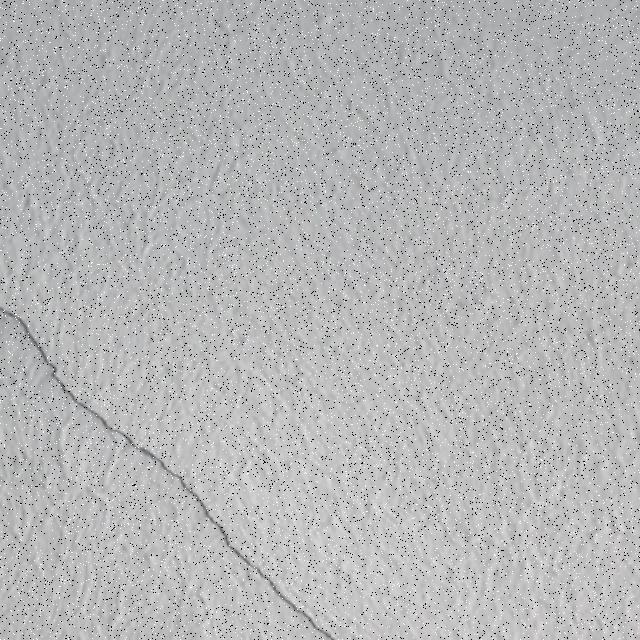severe crack: (6, 296, 367, 637), (224, 547, 360, 633), (9, 305, 78, 400), (196, 512, 253, 565), (40, 362, 56, 380)
